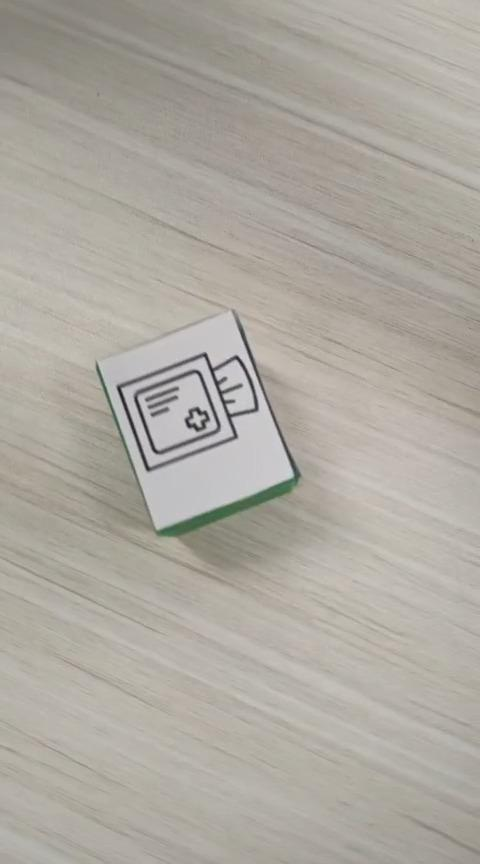Gauze: (94, 307, 300, 537)
